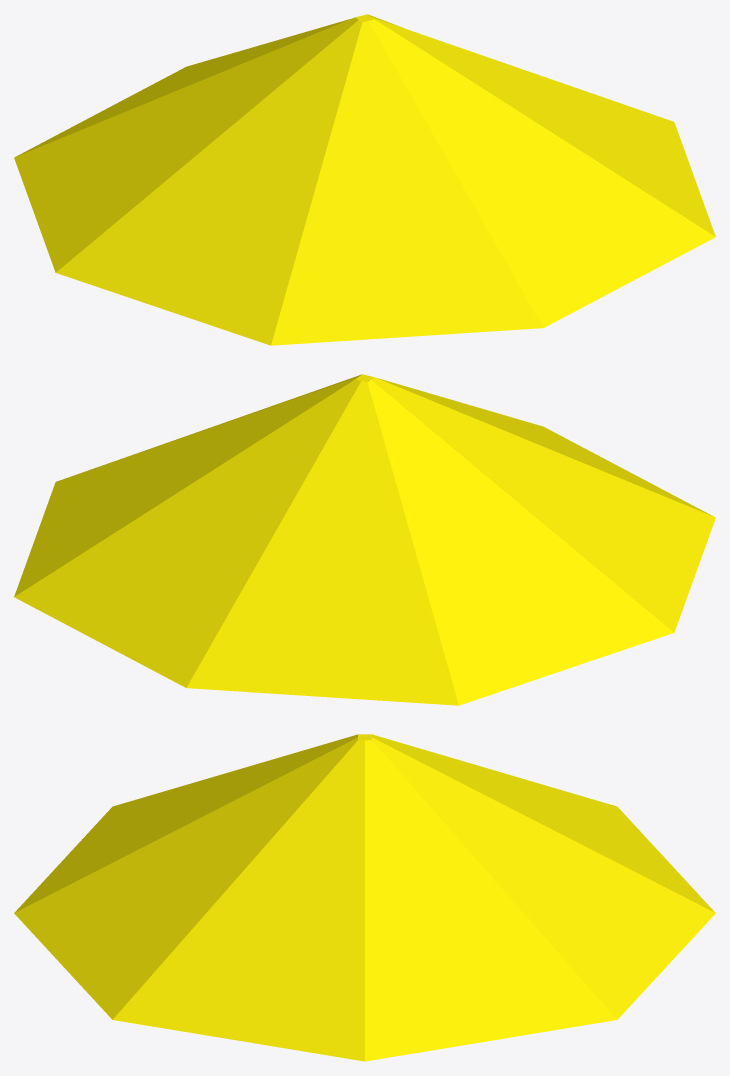
The model's file is Tower_Top_Yellow.fbx.
3 renders of one model, top to bottom at view 1: azimuth 30°, elevation 25°; view 2: azimuth 150°, elevation 25°; view 3: azimuth 270°, elevation 25°, orthographic.
Visible parts, largest first — view 1: Top_Yellow; view 2: Top_Yellow; view 3: Top_Yellow.
Boxes of the visible parts, box(x1,y1,x2,y2) form: Top_Yellow: box(14, 14, 715, 345); Top_Yellow: box(14, 374, 715, 705); Top_Yellow: box(14, 734, 715, 1061).
Size of the model in its own units: 2975 by 823 by 2975.
